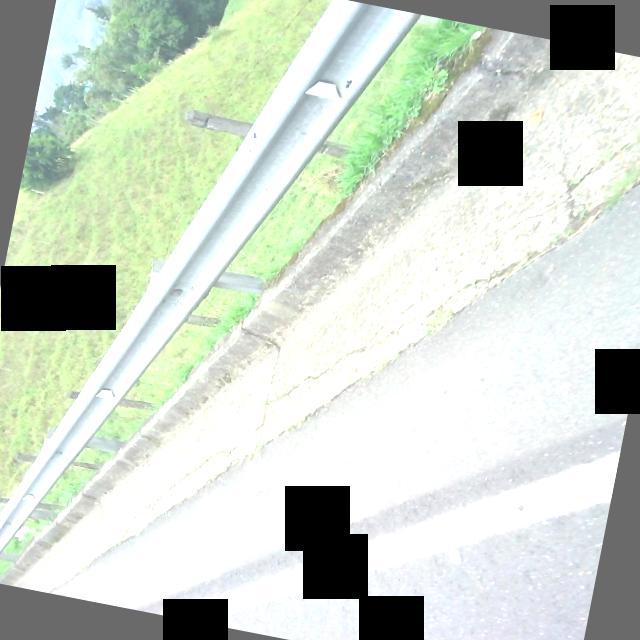DITCH: (0, 0, 640, 640), (70, 0, 640, 640)
